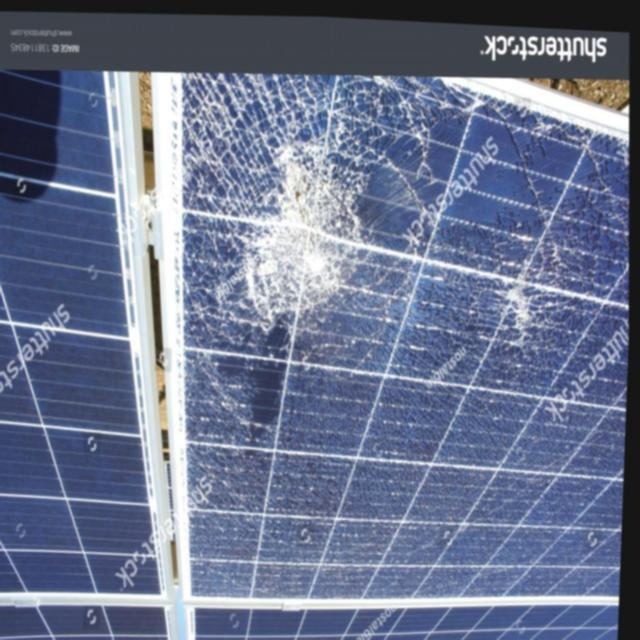cracked: (150, 72, 622, 596)
